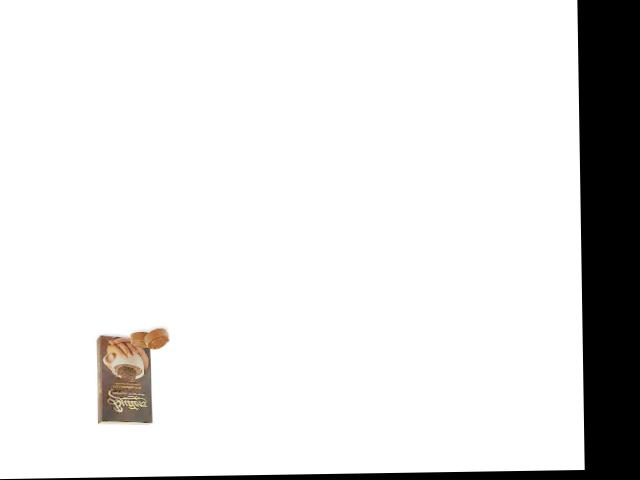chocolate: (92, 332, 160, 428)
